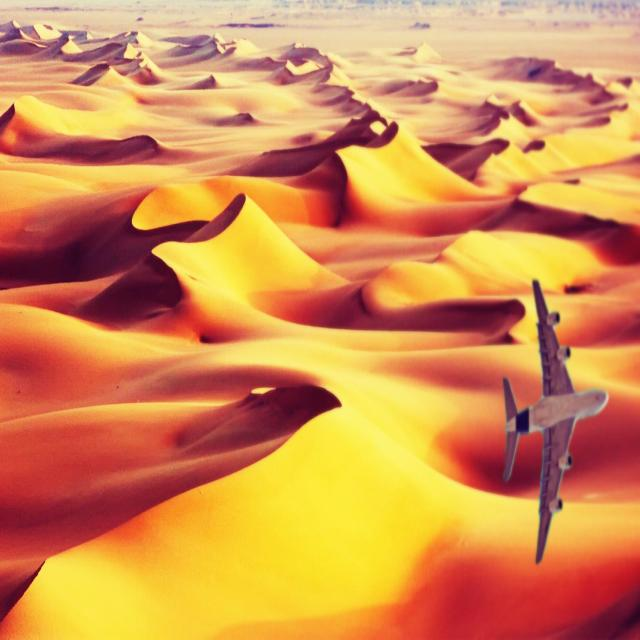airplane: (501, 277, 609, 564)
